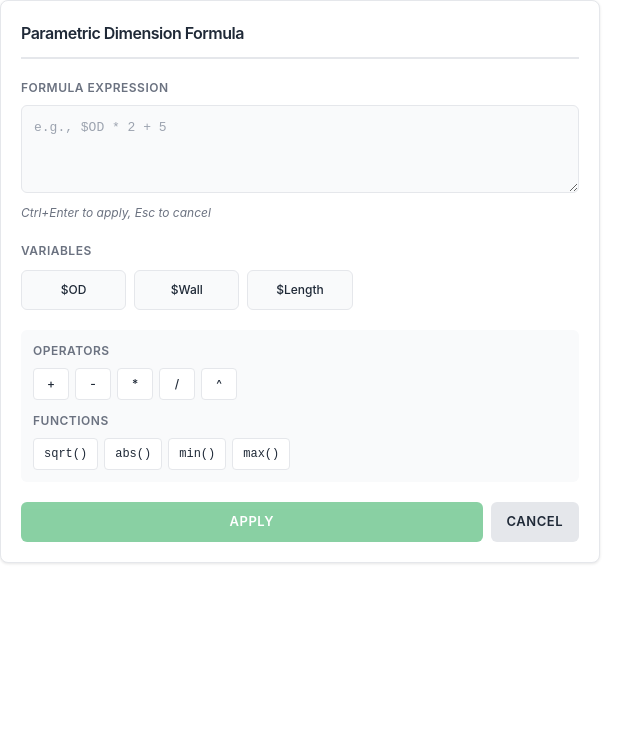
FormulaEditor Component › Formula Evaluation › should display error on invalid formula
Type "10 / 0" into the text box with placeholder "e.g., $OD * 2 + 5" at (300, 149), box left=21, top=105, right=579, bottom=193
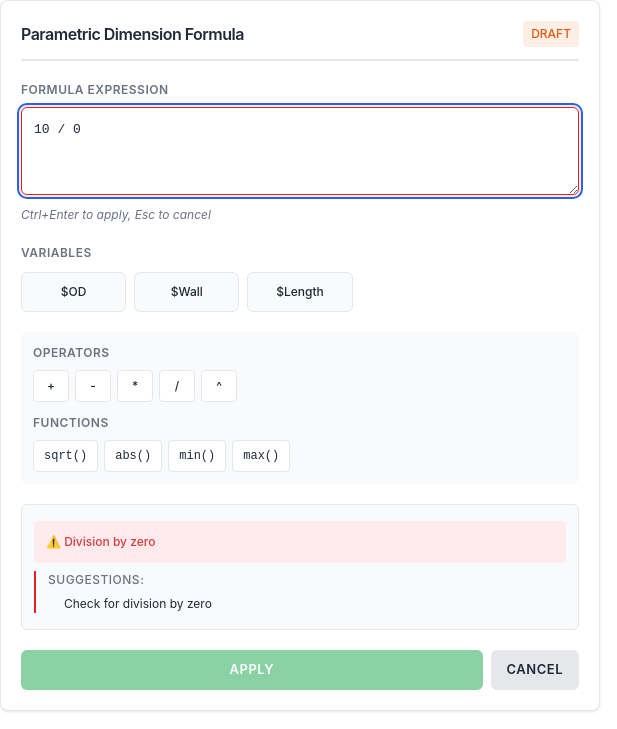
Result: the text "⚠️ Division by zero" is shown at left=34, top=521, right=566, bottom=563
